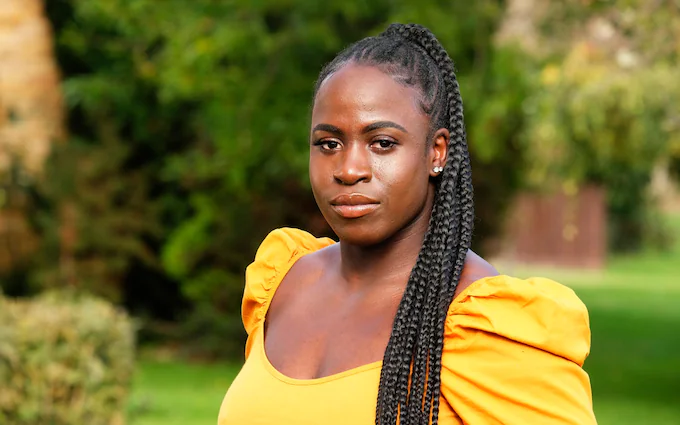person: (218, 22, 590, 425)
